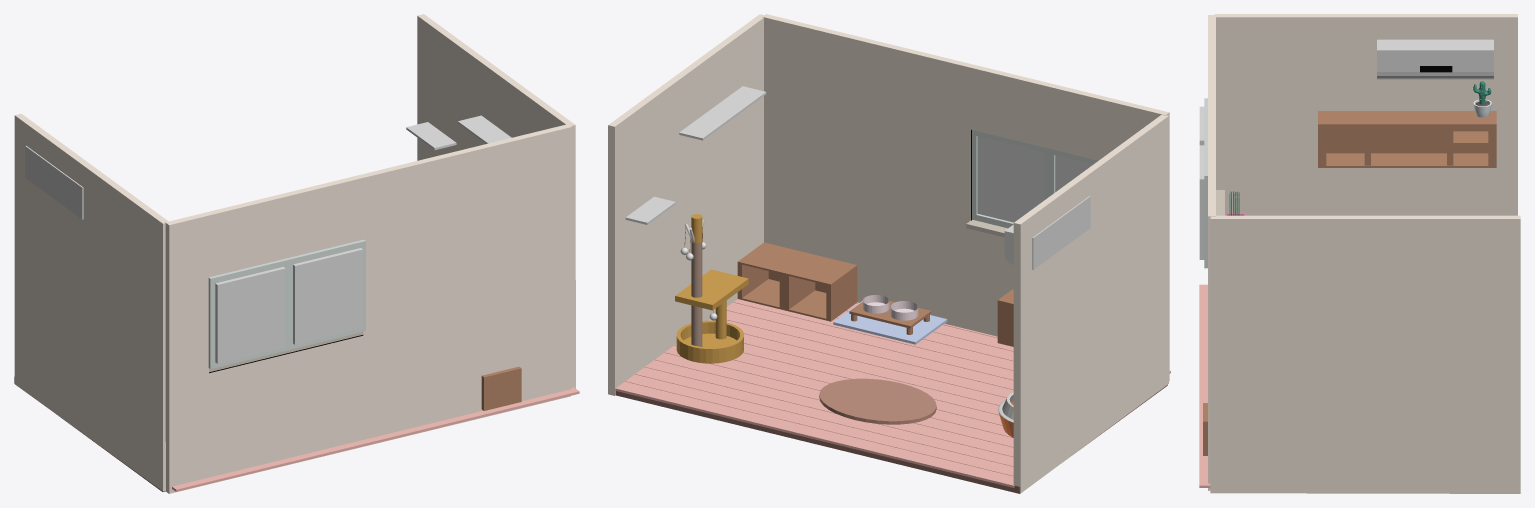
File: 主畫面.fbx
3 renders of one model, left to right at view 1: azimuth 30°, elevation 25°; view 2: azimuth 150°, elevation 25°; view 3: azimuth 270°, elevation 25°, orthographic. The views are drawn at different scales.
Visible parts, largest first — view 1: 牆壁, 牆壁右, 牆壁左, 立方體.027, 立方體.025, 立方體.024, 冷氣, 立方體.026, 立方體.003, 櫃子, 吃飯2墊子.002, 吃飯2墊子.001; view 2: 牆壁, 牆壁右, 牆壁左, 櫃子, 牆壁下, 立方體.025, 立方體.015, 地毯, 立方體.001, 立方體.002, 立方體.004, 立方體.019 (+21 smaller); view 3: 牆壁左, 牆壁右, 牆壁櫃, 冷氣, 牆壁, 立方體.024, 立方體.025, 立方體.029, 立方體.003.
Boxes of the visible parts, x1,y1,x2,y2 form: 牆壁: (165, 124, 572, 493); 牆壁右: (14, 113, 168, 491); 牆壁左: (417, 14, 575, 388); 立方體.027: (215, 267, 285, 363); 立方體.025: (293, 248, 363, 344); 立方體.024: (172, 387, 579, 491); 冷氣: (25, 145, 83, 219); 立方體.026: (208, 258, 288, 368); 立方體.003: (286, 239, 365, 350); 櫃子: (481, 366, 521, 410); 吃飯2墊子.002: (458, 115, 511, 143); 吃飯2墊子.001: (406, 122, 456, 149); 牆壁: (762, 14, 1169, 381); 牆壁右: (1013, 114, 1168, 493); 牆壁左: (608, 14, 763, 395); 櫃子: (737, 242, 857, 321); 牆壁下: (615, 302, 1167, 493); 立方體.025: (977, 136, 1044, 222); 立方體.015: (615, 381, 1014, 487); 地毯: (819, 378, 936, 424); 立方體.001: (625, 374, 1013, 475); 立方體.002: (635, 367, 1013, 466); 立方體.004: (645, 360, 1013, 456); 立方體.019: (726, 310, 1013, 389); 牆壁左: (1210, 215, 1520, 493); 牆壁右: (1214, 14, 1517, 215); 牆壁櫃: (1318, 111, 1496, 167); 冷氣: (1377, 39, 1493, 79); 牆壁: (1208, 15, 1215, 490); 立方體.024: (1199, 284, 1210, 487); 立方體.025: (1199, 145, 1204, 259); 立方體.029: (1448, 131, 1488, 148); 立方體.003: (1204, 137, 1207, 268).
Bounding box in the file's own units: 763 × 477 × 505.
